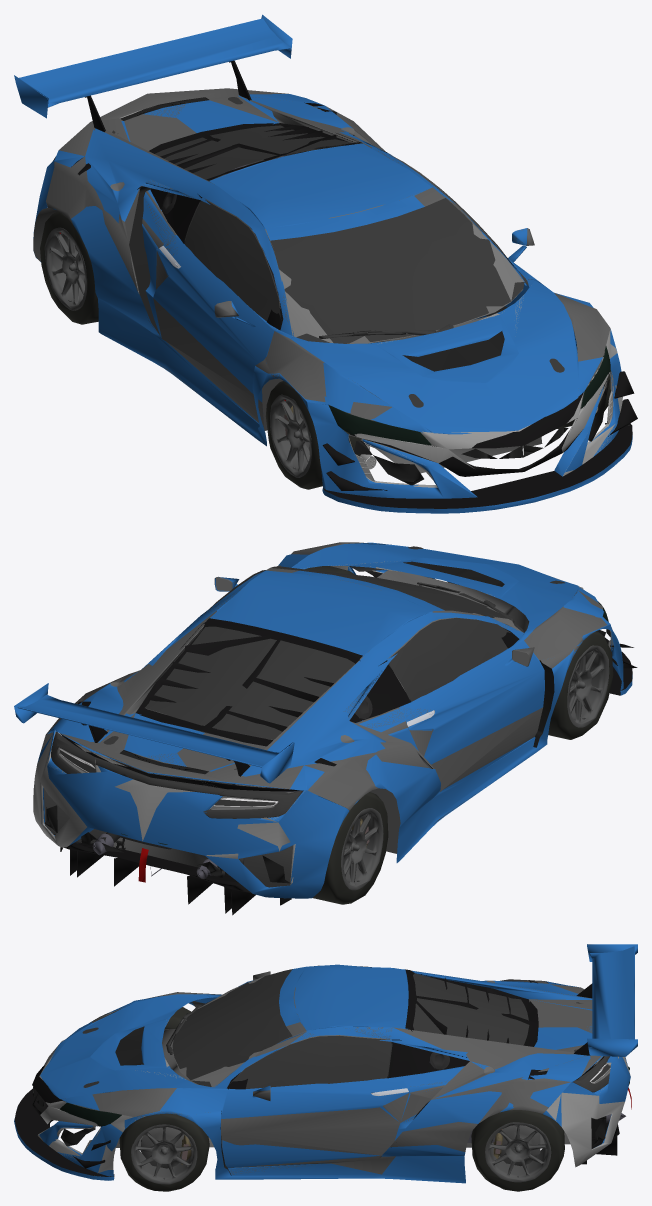
Rendered from acura_nsx_gt3.obj.
The picture shows the model from 3 angles, top to bottom: view 1: azimuth 30°, elevation 25°; view 2: azimuth 150°, elevation 25°; view 3: azimuth 270°, elevation 25°; orthographic projection. The views are drawn at different scales.
Visible parts, largest first — view 1: BODY, GLASS, WHEEL_RR, WHEEL_RF; view 2: BODY, GLASS, WHEEL_RR, WHEEL_RF, rear_trim; view 3: BODY, GLASS, WHEEL_LR, WHEEL_LF.
Boxes of the visible parts, x1,y1,x2,y2 form: BODY: [14, 14, 637, 513]; GLASS: [53, 106, 610, 445]; WHEEL_RR: [40, 211, 98, 324]; WHEEL_RF: [265, 381, 360, 489]; BODY: [14, 542, 637, 915]; GLASS: [51, 566, 608, 849]; WHEEL_RR: [313, 792, 388, 904]; WHEEL_RF: [548, 631, 613, 739]; rear_trim: [60, 734, 299, 791]; BODY: [14, 944, 637, 1183]; GLASS: [60, 969, 610, 1126]; WHEEL_LR: [471, 1110, 564, 1191]; WHEEL_LF: [119, 1113, 209, 1191].
Size of the model in its own units: 1.8 by 1.02 by 3.94.
